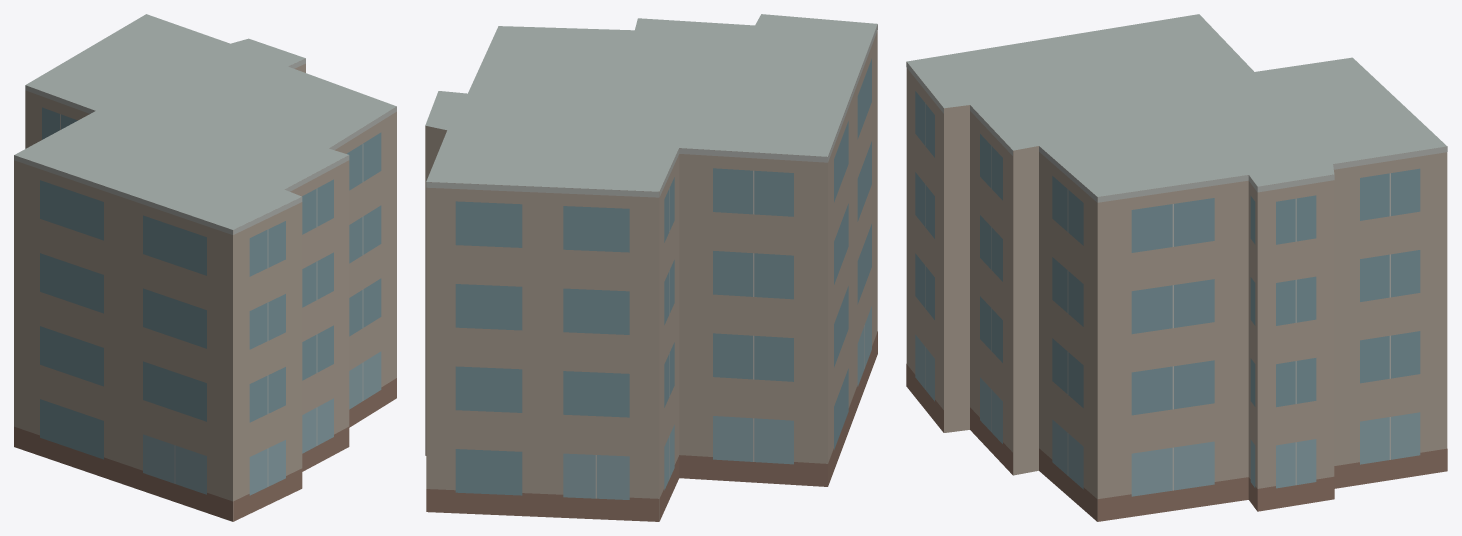
File: survey-upis-32534824.glb
The picture shows the model from 3 angles, left to right: view 1: azimuth 30°, elevation 25°; view 2: azimuth 150°, elevation 25°; view 3: azimuth 270°, elevation 25°; orthographic projection. The views are drawn at different scales.
Parts seen in each view (by area): view 1: survey-upis-32534824.tmp; view 2: survey-upis-32534824.tmp; view 3: survey-upis-32534824.tmp.
Part boxes in pixels (left/top/right/bottom): survey-upis-32534824.tmp: left=14, top=14, right=396, bottom=521; survey-upis-32534824.tmp: left=425, top=14, right=877, bottom=521; survey-upis-32534824.tmp: left=906, top=14, right=1447, bottom=521.
Size of the model in its own units: 16.62 by 13.75 by 20.76.
